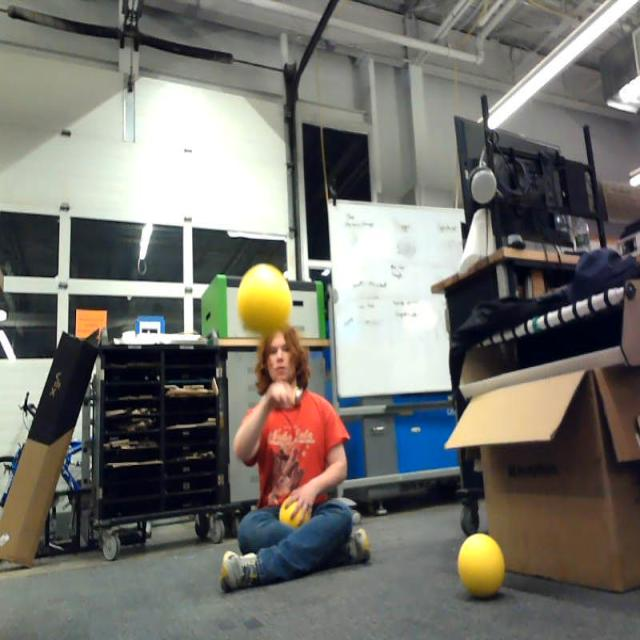Fuel: (237, 263, 292, 333), (458, 533, 506, 598), (278, 496, 310, 536)
